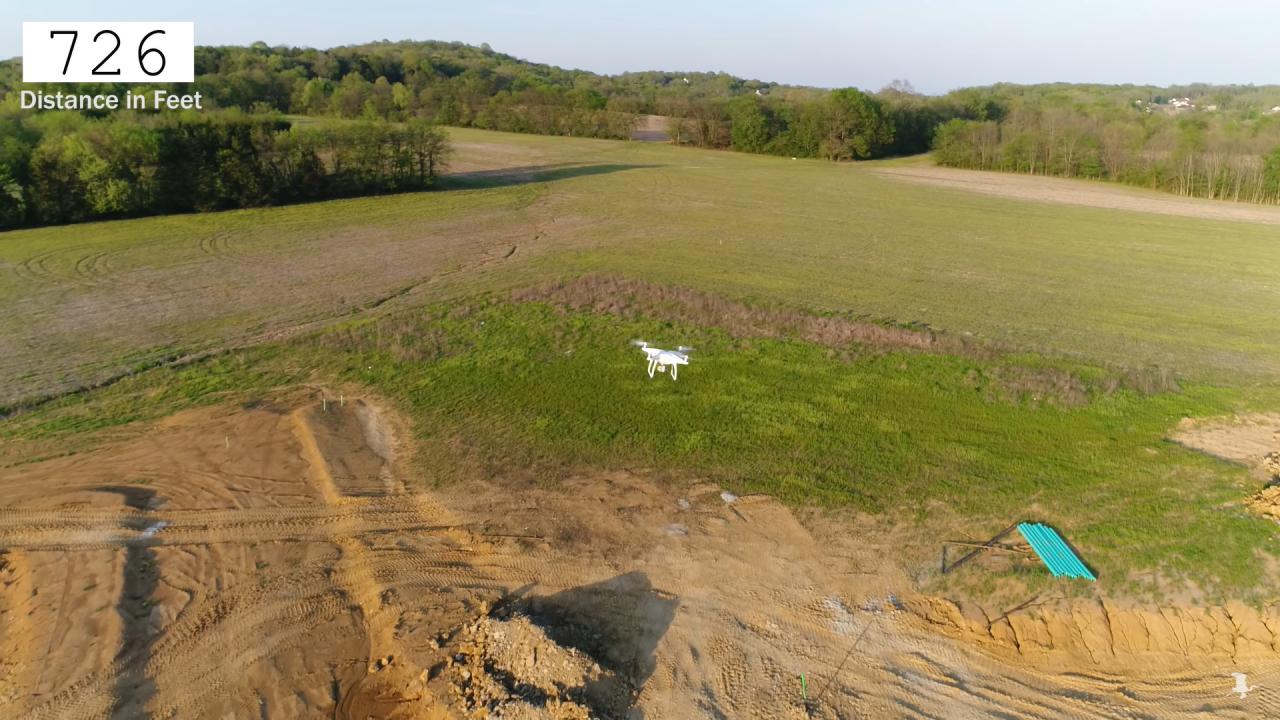Drone: (628, 332, 698, 391)
